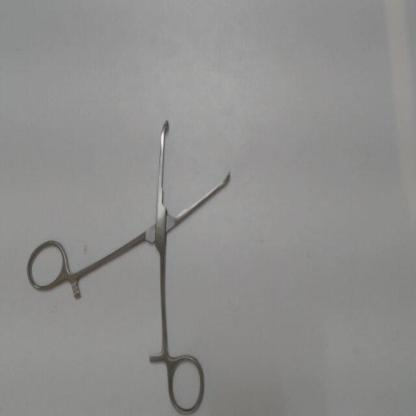Allis Tissue Forceps: (21, 115, 242, 415)
